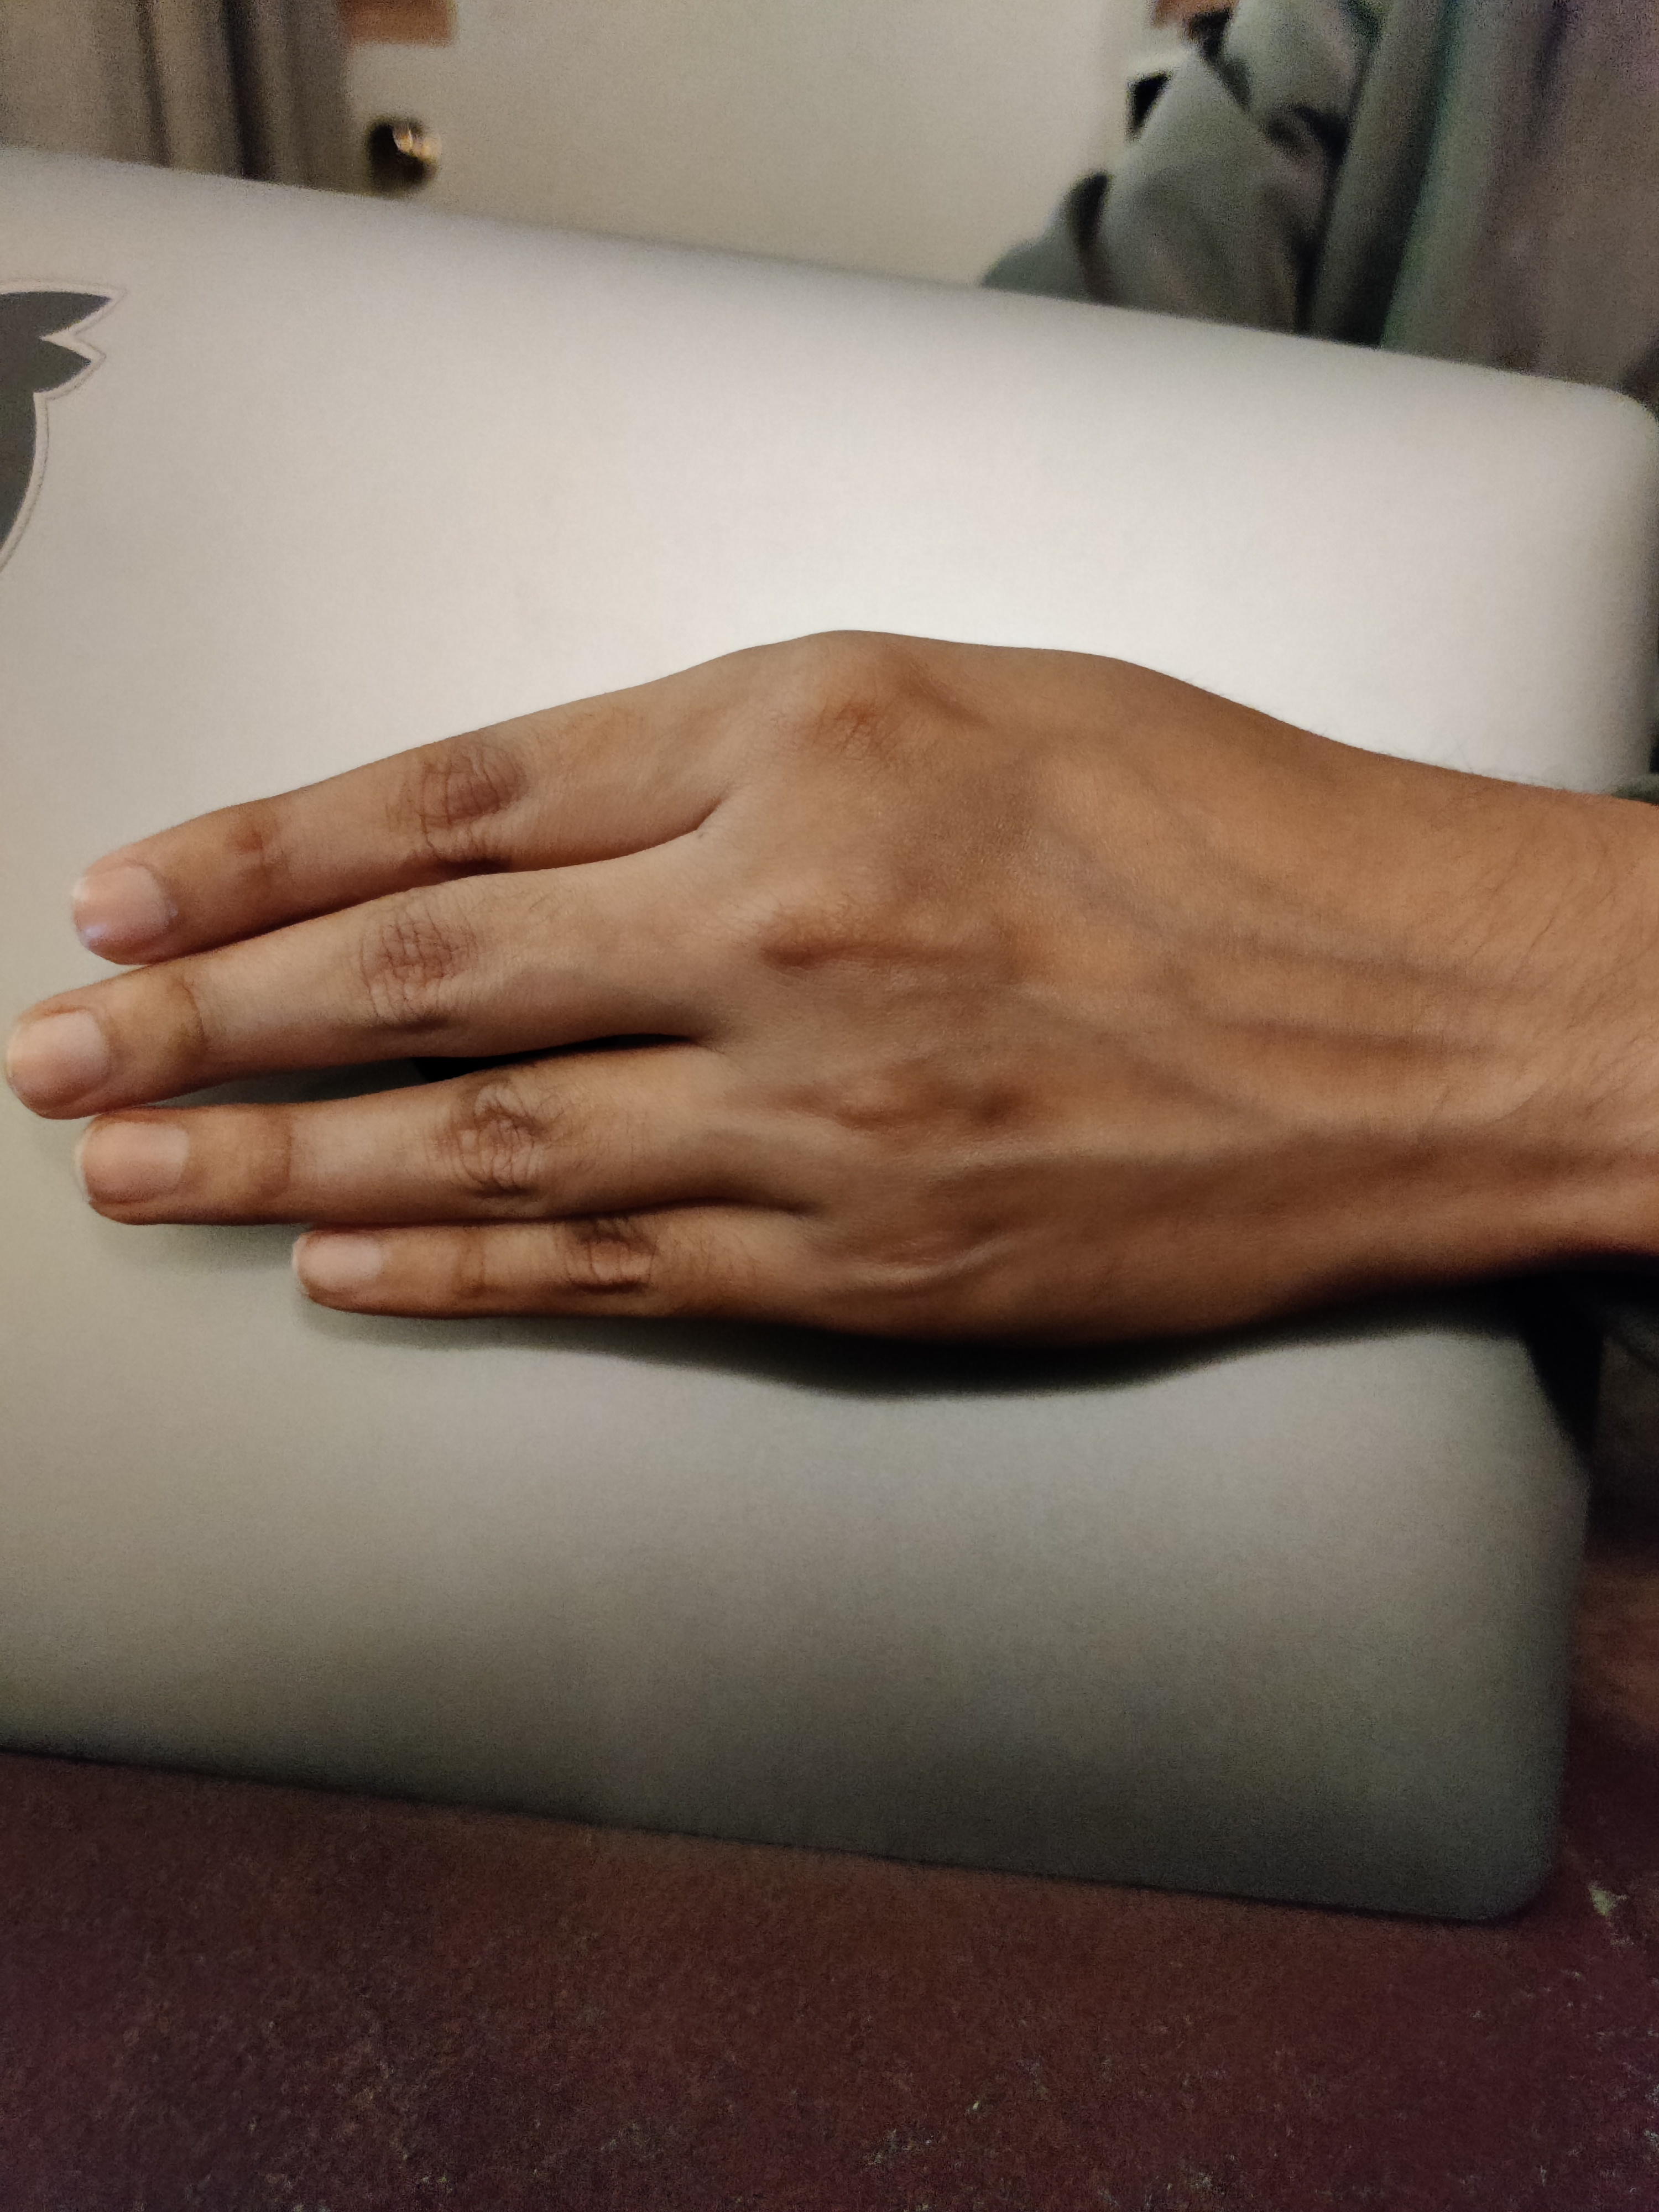right: (42, 536, 1633, 1494)
